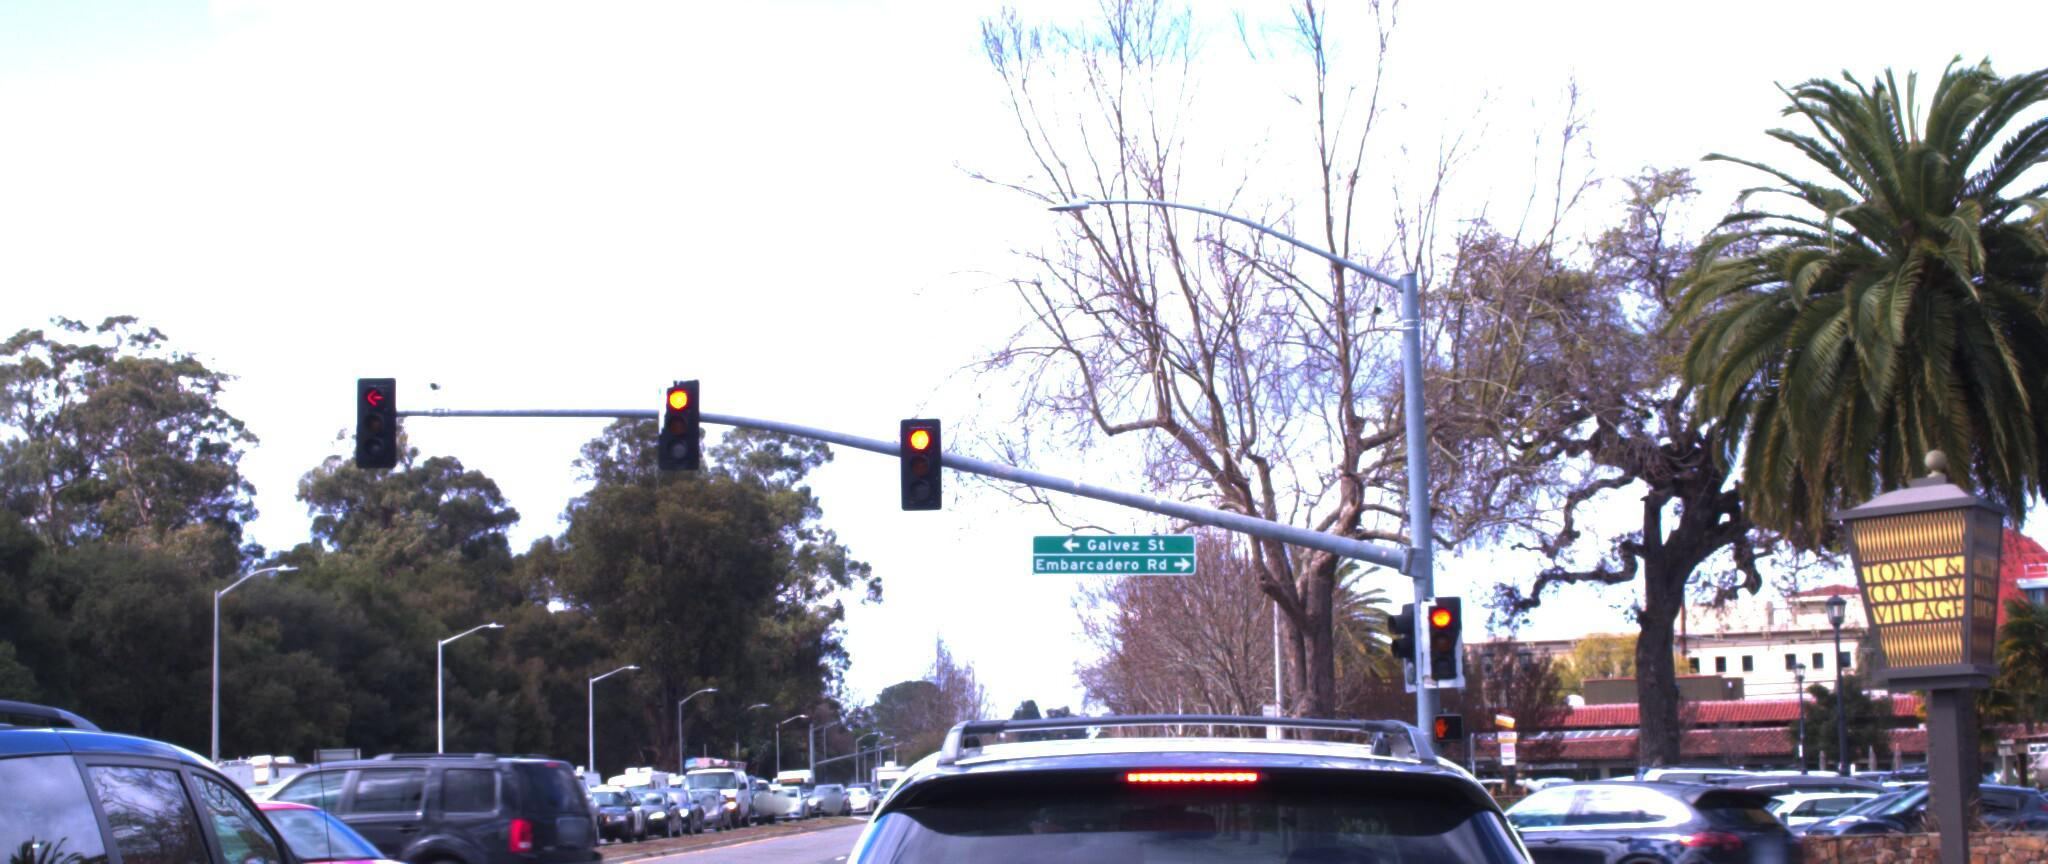car: (686, 668, 1735, 864), (0, 671, 447, 864), (101, 724, 623, 864), (0, 773, 571, 864), (1388, 774, 1829, 864), (1676, 752, 1983, 856), (1735, 766, 2048, 864), (1799, 757, 2048, 864)
other_vehicle: (0, 700, 98, 854)
